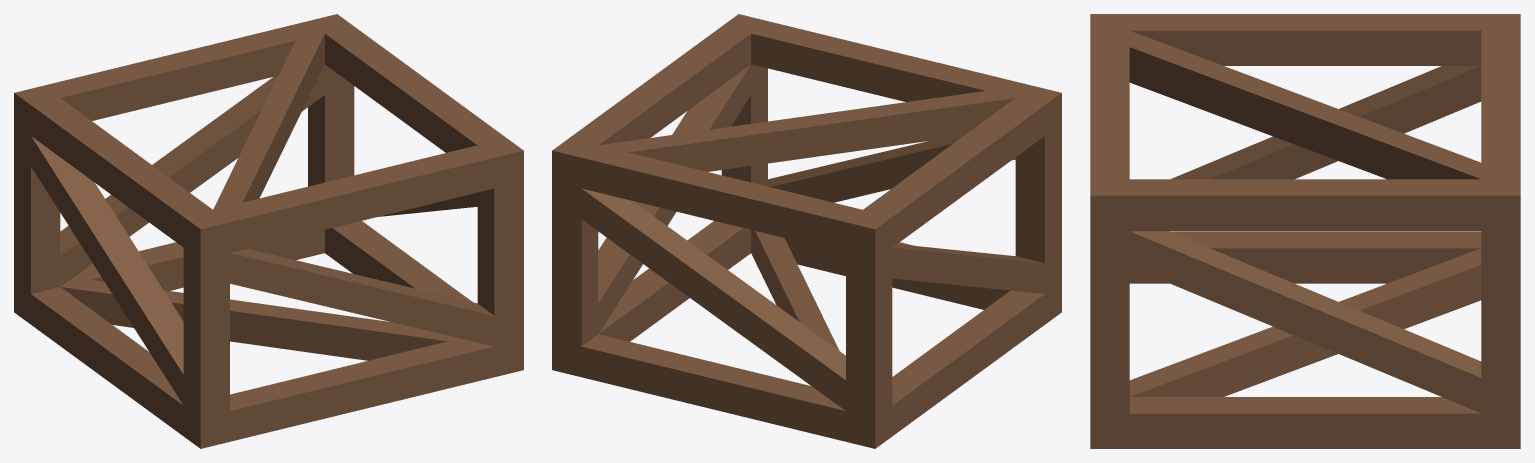
The model's file is BuildingFrame.fbx.
The picture shows the model from 3 angles, left to right: view 1: azimuth 30°, elevation 25°; view 2: azimuth 150°, elevation 25°; view 3: azimuth 270°, elevation 25°; orthographic projection. The views are drawn at different scales.
Parts seen in each view (by area): view 1: BuildingFrame; view 2: BuildingFrame; view 3: BuildingFrame.
Boxes of the visible parts, x1,y1,x2,y2 form: BuildingFrame: (14,14,523,448); BuildingFrame: (552,14,1061,448); BuildingFrame: (1090,14,1520,448).
Bounding box in the file's own units: 7.7 × 5 × 7.7.
